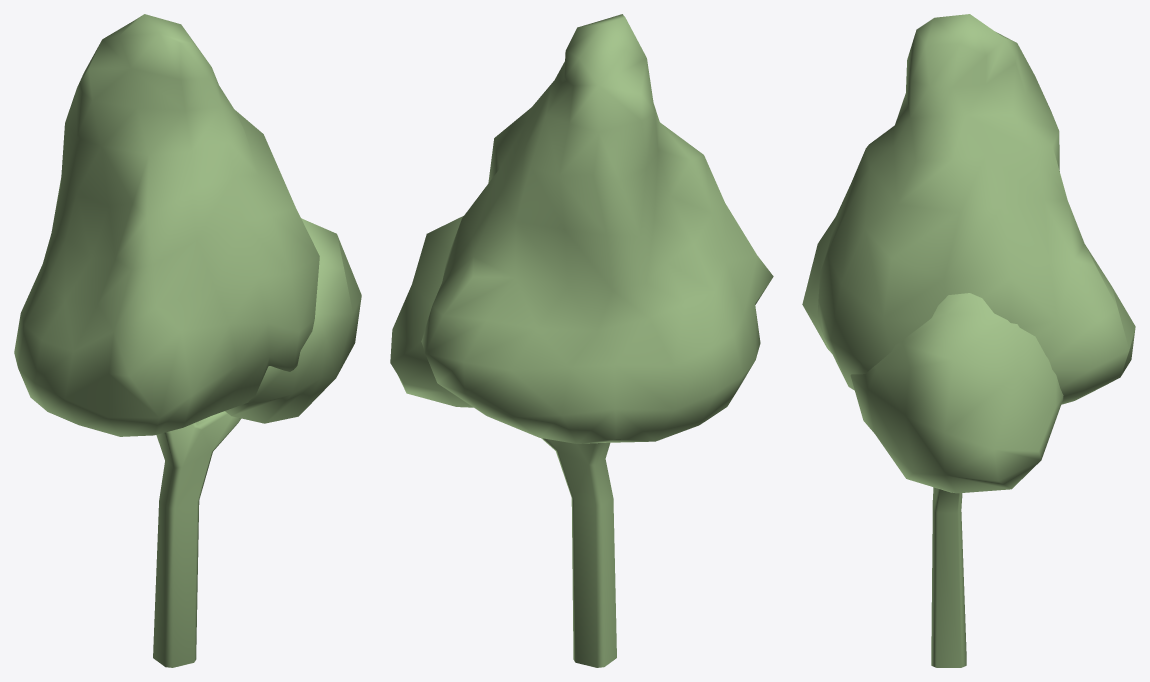
The model's file is Tree2_Uv.fbx.
The picture shows the model from 3 angles, left to right: view 1: azimuth 30°, elevation 25°; view 2: azimuth 150°, elevation 25°; view 3: azimuth 270°, elevation 25°; orthographic projection.
Parts seen in each view (by area): view 1: pSphere1, pCube1, pSphere2; view 2: pSphere1, pCube1, pSphere2; view 3: pSphere1, pSphere2, pCube1.
Part boxes in pixels (box(x1,y1,x2,y2)): pSphere1: box(14, 14, 319, 436); pCube1: box(153, 411, 241, 667); pSphere2: box(225, 218, 361, 423); pSphere1: box(421, 14, 773, 443); pCube1: box(541, 438, 616, 667); pSphere2: box(390, 216, 473, 407); pSphere1: box(802, 14, 1135, 404); pSphere2: box(850, 293, 1063, 493); pCube1: box(931, 487, 966, 667).
Size of the model in its own units: 293 by 546 by 259.
